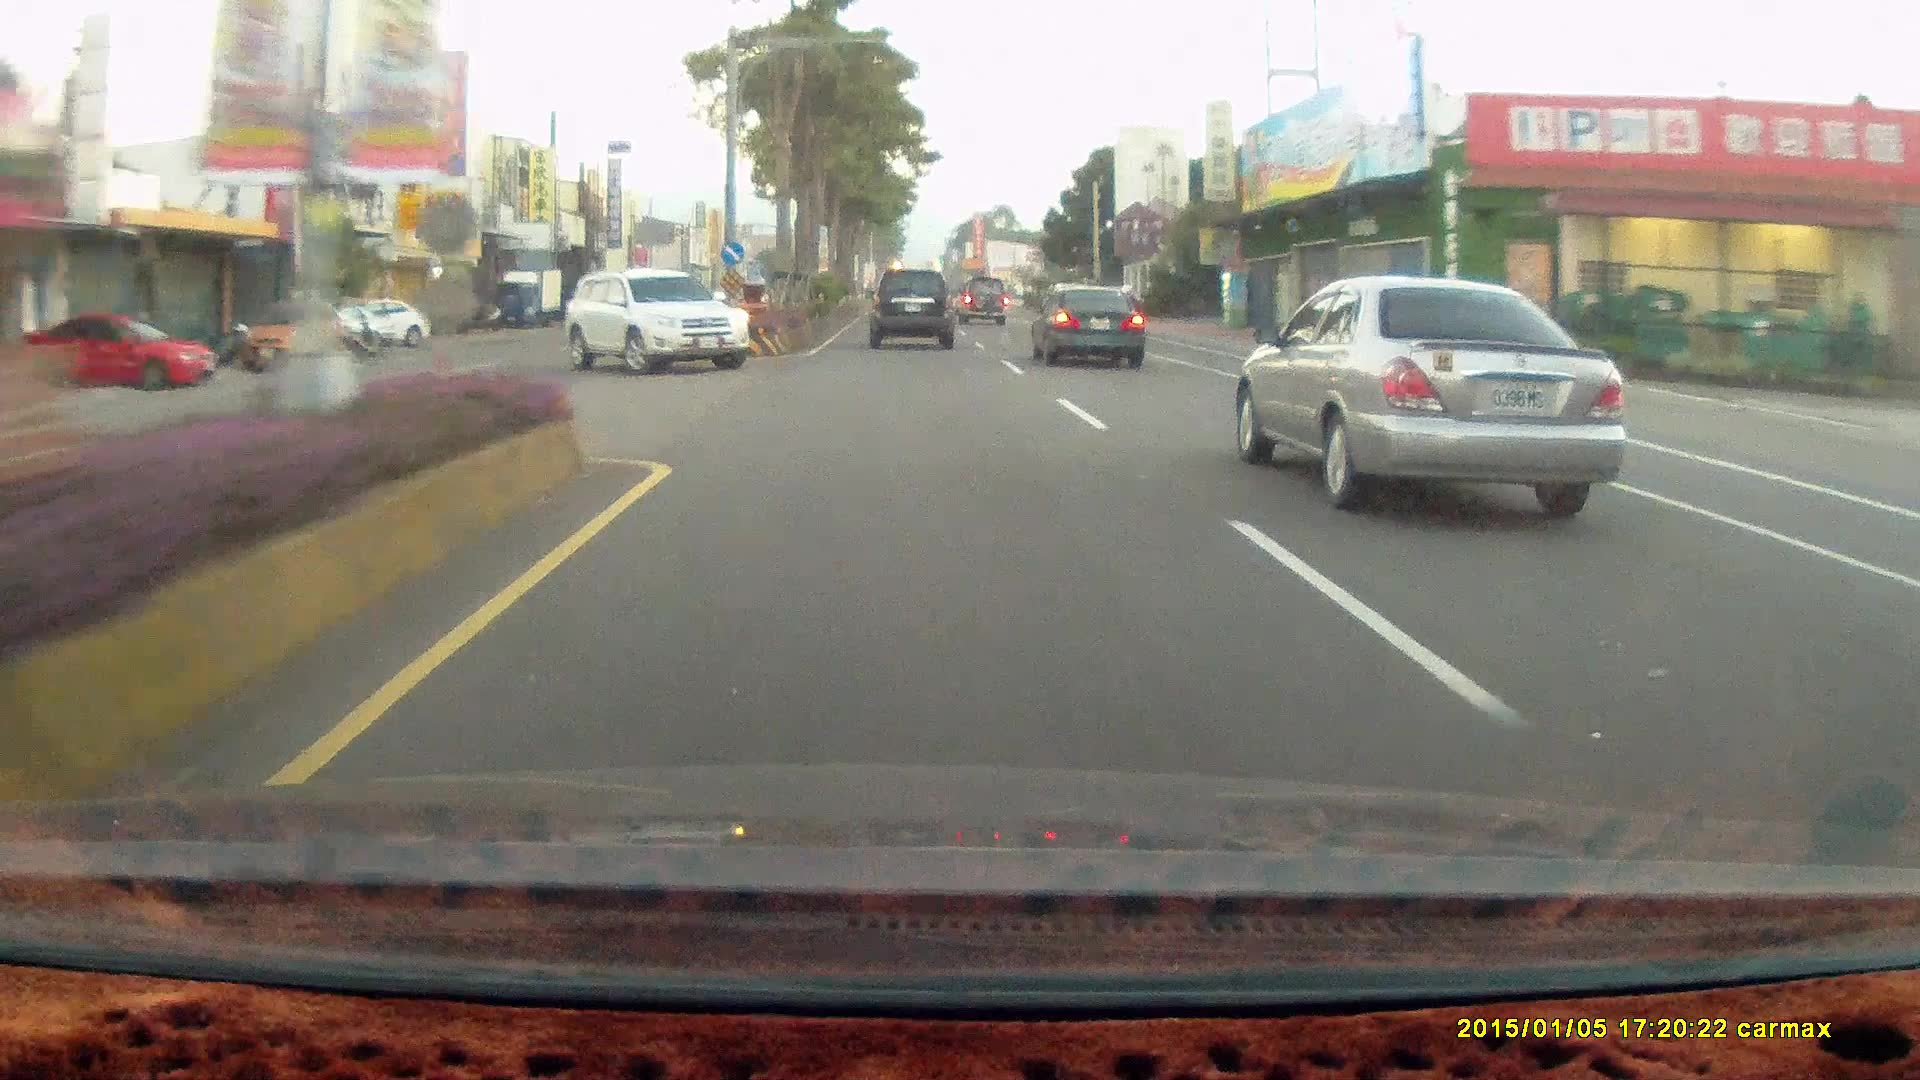vehicle: (1226, 276, 1626, 527), (558, 272, 753, 378), (559, 269, 752, 376), (7, 315, 206, 401), (15, 313, 211, 392), (1029, 285, 1149, 372), (1029, 282, 1145, 368), (865, 268, 961, 356), (237, 302, 351, 373), (866, 269, 952, 347), (320, 295, 430, 347), (956, 280, 1010, 330), (956, 278, 1009, 326)
